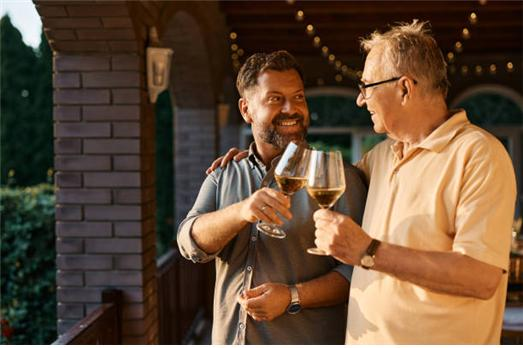alcohol: (257, 144, 306, 240), (307, 148, 347, 256)
